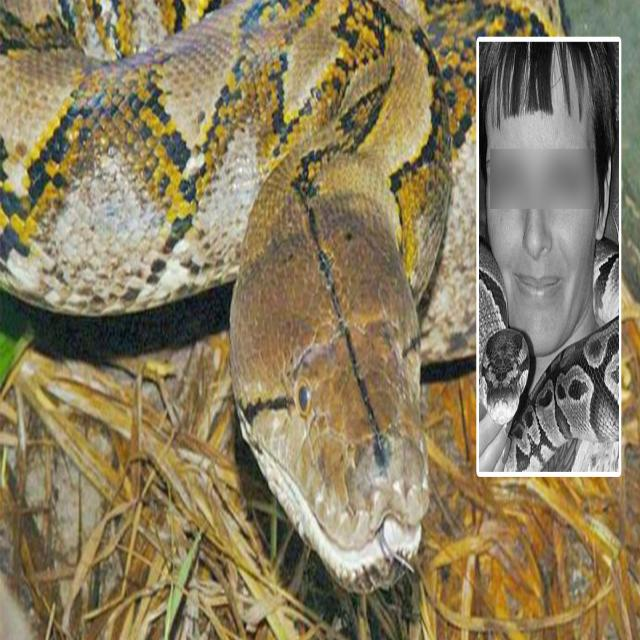Non-Venomous: (218, 111, 440, 576)
